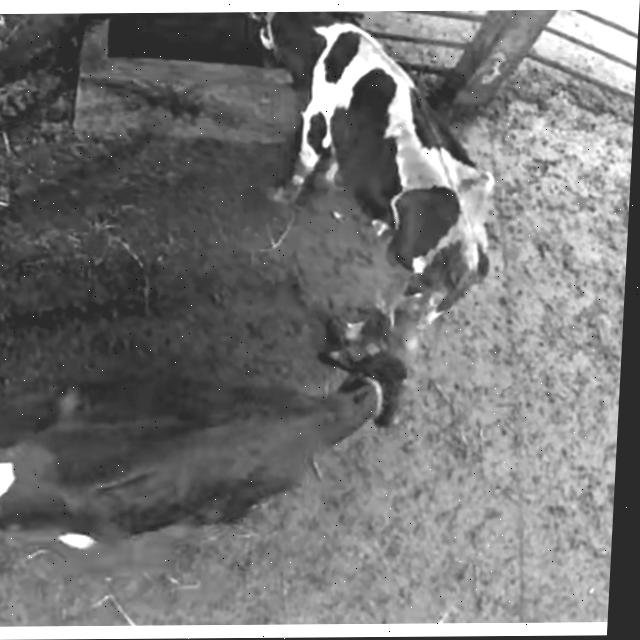drink: (223, 10, 374, 115)
